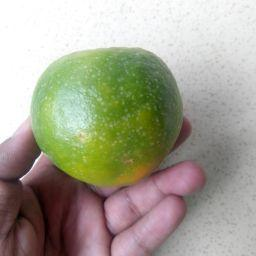Unripe: (29, 47, 182, 185)
